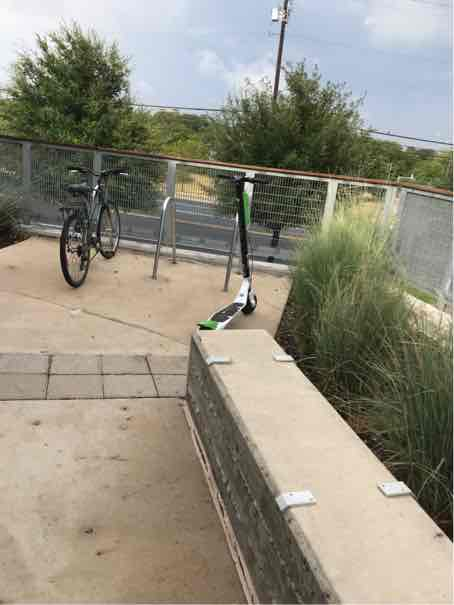scooter: (193, 154, 274, 344)
